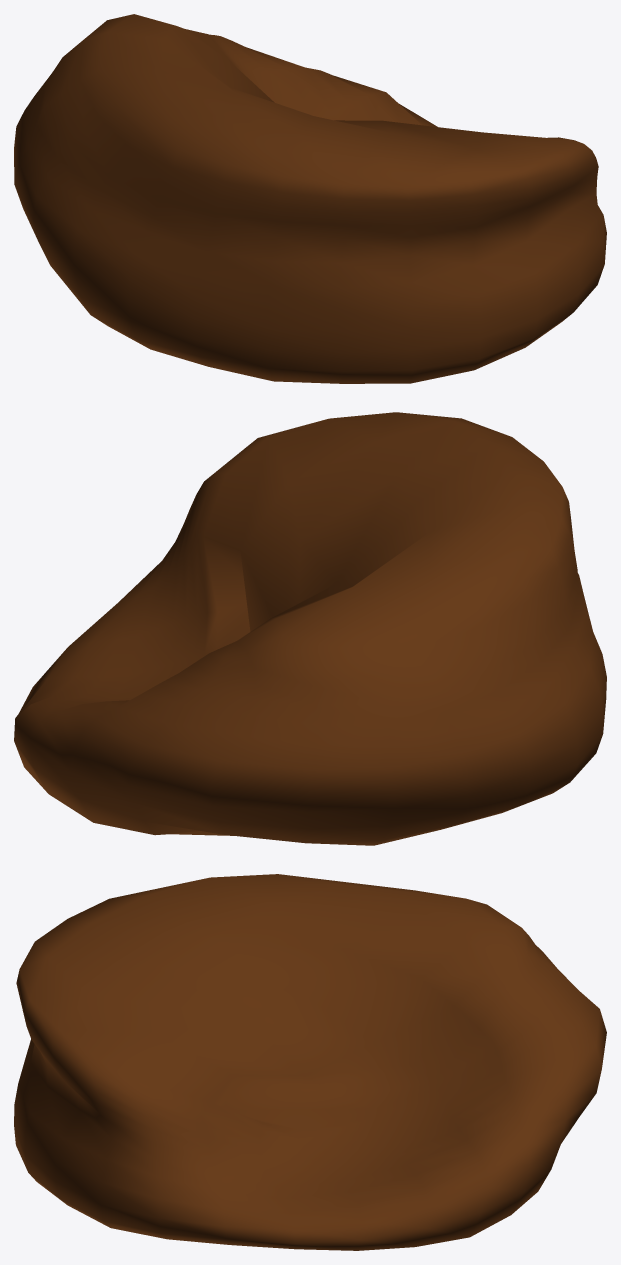
File: pouf_B.glb
3 views of the same model, one above another, from view 1: azimuth 30°, elevation 25°; view 2: azimuth 150°, elevation 25°; view 3: azimuth 270°, elevation 25° (orthographic). The views are drawn at different scales.
Visible parts, largest first — view 1: Cylinder.002; view 2: Cylinder.002; view 3: Cylinder.002.
Boxes of the visible parts, <box> form: Cylinder.002: <box>14,14,606,383</box>; Cylinder.002: <box>14,412,606,845</box>; Cylinder.002: <box>14,874,606,1250</box>.
Bounding box in the file's own units: 2 × 0.9285 × 2.22.
